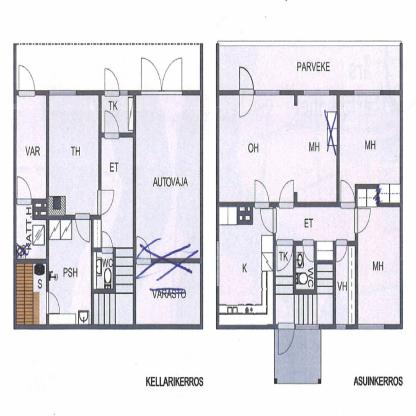door: (140, 58, 184, 96), (238, 65, 255, 118), (352, 203, 372, 237), (17, 62, 35, 97), (275, 238, 292, 274), (278, 324, 296, 357), (254, 176, 270, 210), (15, 175, 33, 205), (278, 177, 294, 209), (259, 208, 278, 234), (74, 213, 91, 242), (104, 68, 120, 96), (104, 111, 119, 138), (341, 180, 354, 209), (96, 191, 114, 211), (335, 238, 347, 264), (46, 292, 60, 314), (100, 232, 113, 253), (301, 242, 313, 264)
window: (214, 241, 220, 287), (303, 88, 330, 96), (295, 323, 320, 331), (255, 88, 278, 96), (354, 90, 380, 96), (48, 90, 74, 96), (359, 324, 384, 330), (119, 90, 127, 98), (336, 324, 345, 331)
zone: (218, 94, 334, 203), (135, 97, 199, 255), (15, 42, 199, 90), (219, 42, 400, 88), (93, 134, 134, 325), (338, 94, 399, 202), (49, 95, 97, 213), (356, 204, 401, 324), (275, 246, 333, 323), (48, 216, 90, 322), (136, 265, 199, 324), (15, 94, 44, 198), (275, 206, 354, 240), (274, 329, 320, 384), (15, 260, 46, 324), (14, 203, 44, 258), (335, 245, 355, 327), (104, 97, 131, 131), (295, 245, 313, 289), (93, 252, 112, 286)
